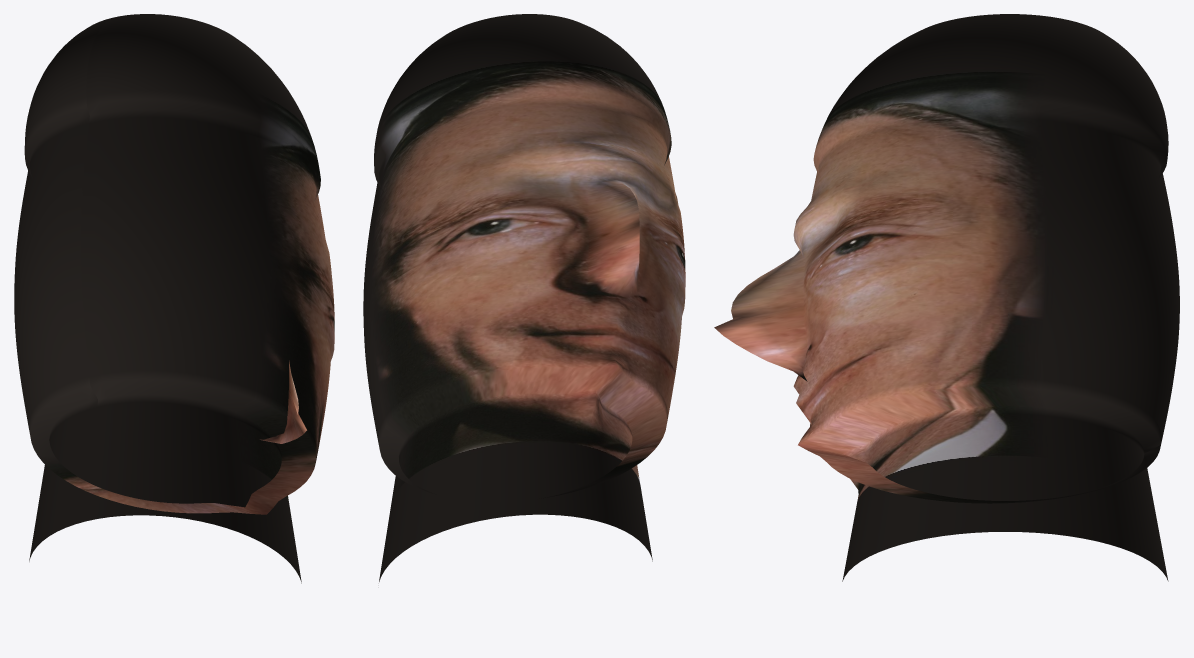
3 renders of one model, left to right at view 1: azimuth 30°, elevation 25°; view 2: azimuth 150°, elevation 25°; view 3: azimuth 270°, elevation 25°, orthographic. The views are drawn at different scales.
Parts seen in each view (by area): view 1: AlecDouglasHome_Head; view 2: AlecDouglasHome_Head; view 3: AlecDouglasHome_Head.
Part boxes in pixels (x1,y1,x2,y2): AlecDouglasHome_Head: (14, 14, 334, 583); AlecDouglasHome_Head: (363, 14, 685, 581); AlecDouglasHome_Head: (714, 14, 1179, 581).
Bounding box in the file's own units: 0.986 × 1.9 × 1.49.
Materials: 1 (1 with a texture image).
